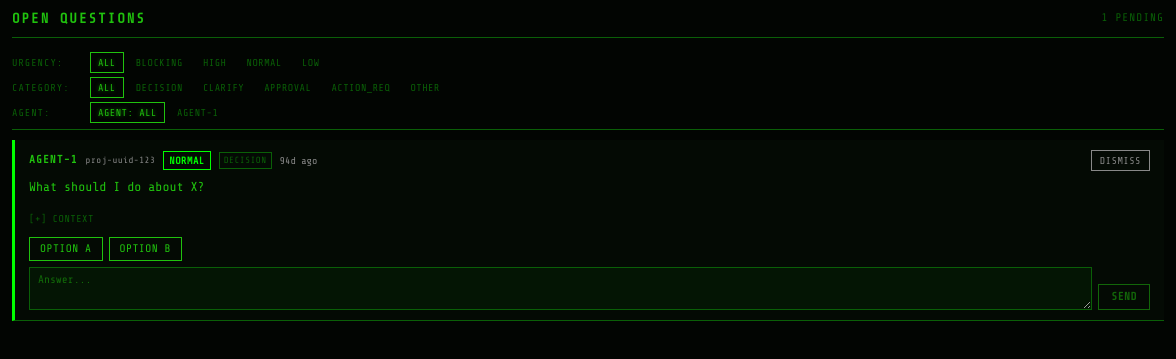
Test: OpenQuestionsView › per-row error display (adj-181.11) › should show a row-level error when dismiss fails
The image size is (1176, 359).
Click the button "DISMISS" at point(1120, 160), box [1091,150,1150,171]
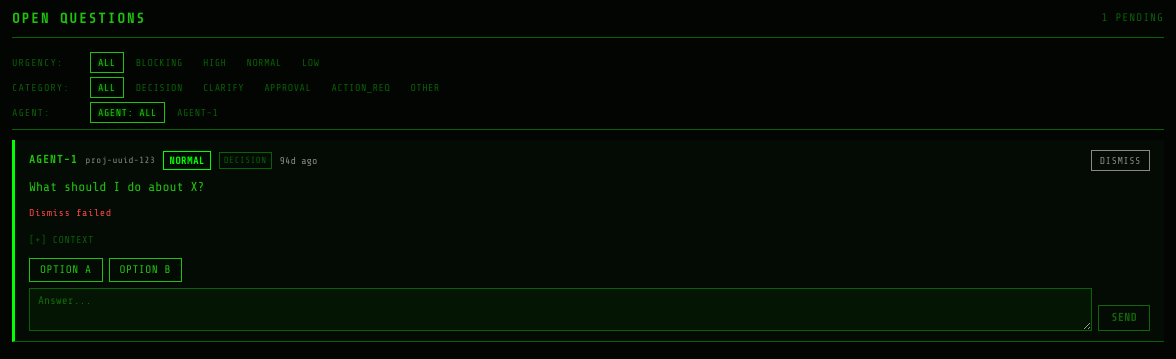
Result: the text "Dismiss failed" is shown at [29,206,112,218]
